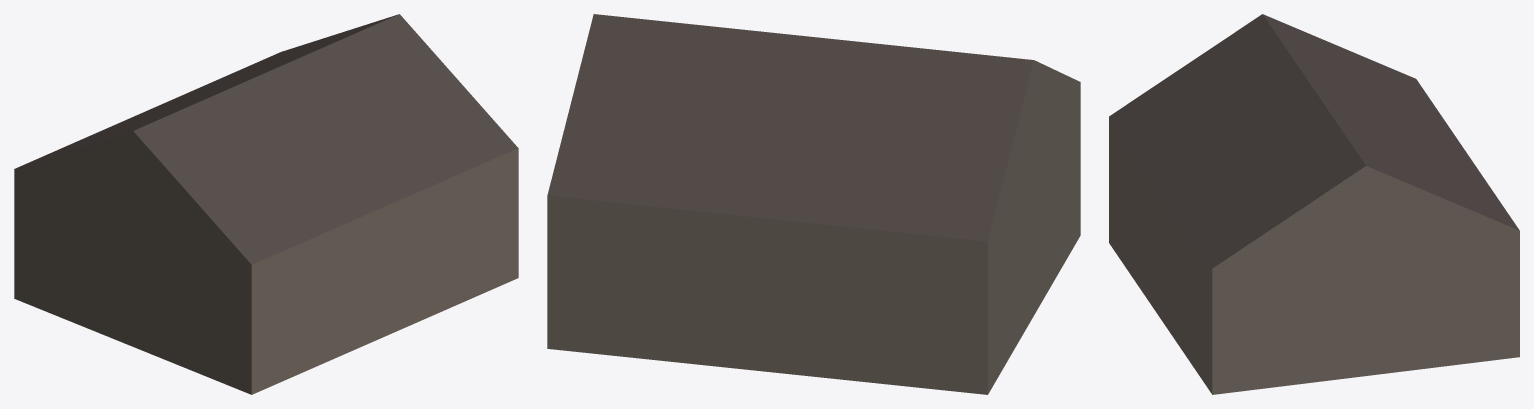
The picture shows the model from 3 angles, left to right: view 1: azimuth 30°, elevation 25°; view 2: azimuth 150°, elevation 25°; view 3: azimuth 270°, elevation 25°; orthographic projection. The views are drawn at different scales.
Visible parts, largest first — view 1: HP-w859424261; view 2: HP-w859424261; view 3: HP-w859424261.
Boxes of the visible parts, x1,y1,x2,y2 form: HP-w859424261: (14, 14, 518, 394); HP-w859424261: (547, 14, 1080, 394); HP-w859424261: (1109, 14, 1519, 394).
Size of the model in its own units: 19.3 by 9.98 by 17.67.
